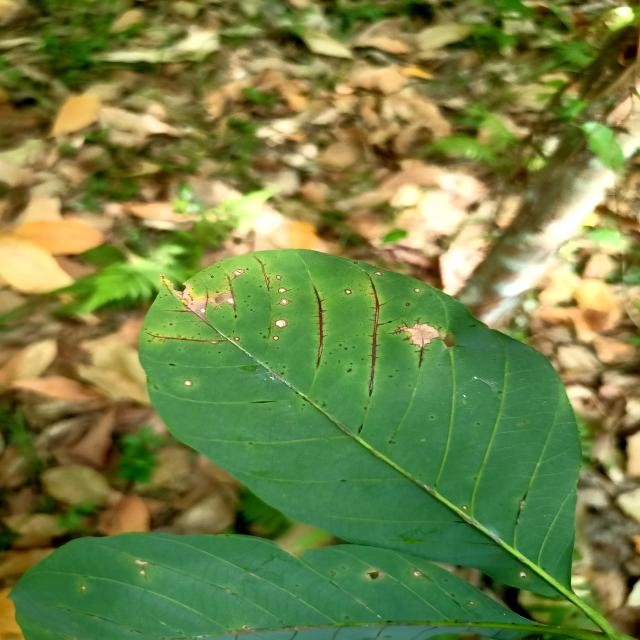Colletotrichum: (274, 319, 288, 328), (278, 298, 290, 306), (184, 379, 194, 386), (344, 289, 352, 295), (272, 335, 280, 341), (278, 287, 286, 293), (414, 288, 421, 293), (374, 272, 382, 276), (276, 275, 282, 280), (234, 336, 240, 341), (353, 261, 358, 265), (406, 302, 410, 306), (210, 275, 213, 278), (216, 291, 218, 293), (191, 304, 193, 306)
Corynespora: (365, 271, 402, 397), (311, 283, 337, 369), (145, 332, 228, 344), (254, 256, 272, 292), (227, 277, 238, 312), (389, 318, 409, 334), (416, 346, 429, 368), (165, 309, 192, 313), (402, 336, 411, 341)
Leaf-Blight: (170, 282, 208, 319), (402, 323, 440, 347)
